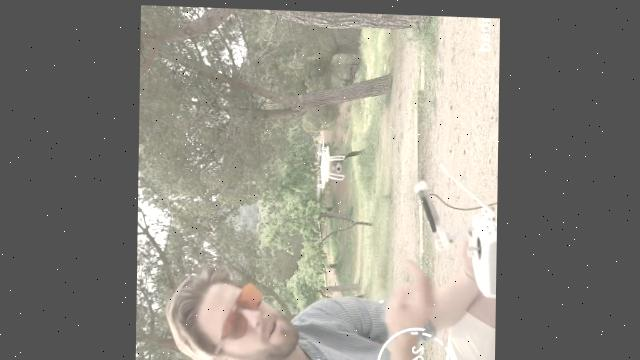drone: (313, 134, 345, 198)
